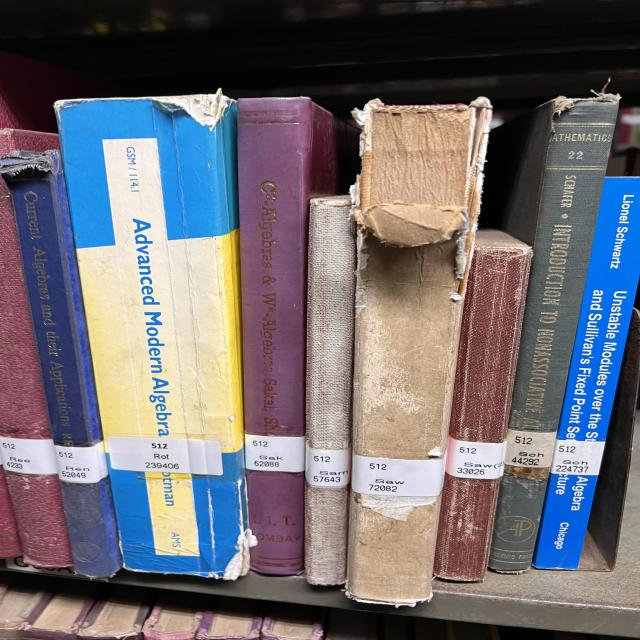Book: (55, 94, 253, 579), (347, 98, 492, 605), (238, 98, 358, 575), (0, 150, 122, 578), (533, 178, 640, 569), (433, 229, 532, 581), (0, 179, 73, 568), (305, 195, 357, 585), (0, 129, 58, 156)
Label: (352, 455, 445, 496), (107, 436, 190, 474), (445, 436, 507, 479), (245, 434, 305, 472), (55, 441, 108, 484), (0, 438, 58, 475), (505, 429, 557, 469), (305, 444, 352, 488), (552, 439, 605, 475)
